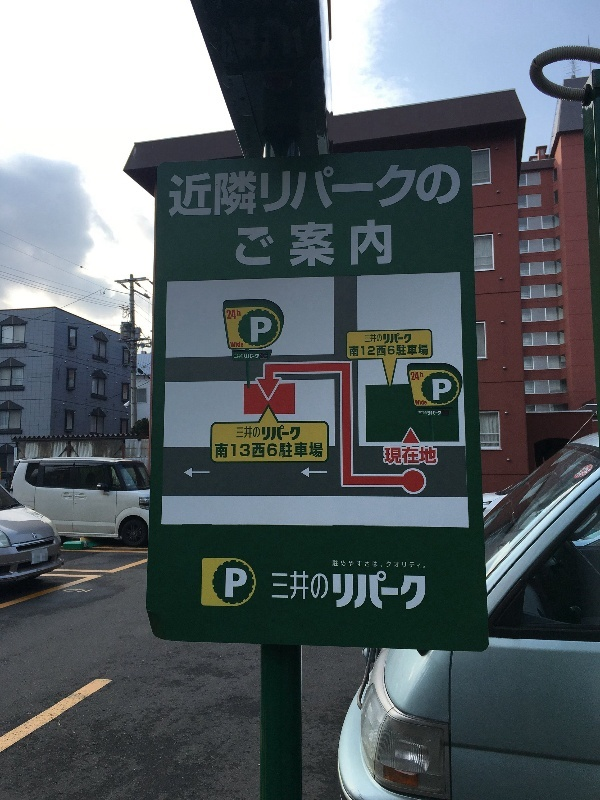text: (177, 162, 192, 220), (193, 162, 208, 220), (209, 162, 224, 220), (225, 162, 240, 220), (241, 162, 256, 220), (257, 162, 272, 220), (273, 162, 288, 220), (289, 162, 304, 220), (305, 162, 320, 220), (321, 162, 336, 220), (337, 162, 352, 220), (353, 162, 368, 220), (369, 162, 384, 220), (385, 162, 400, 220), (401, 162, 416, 220), (417, 162, 432, 220), (433, 162, 448, 220), (241, 219, 256, 270), (257, 219, 272, 270), (273, 219, 288, 270), (289, 219, 304, 270), (305, 219, 320, 270), (321, 219, 336, 270), (337, 219, 352, 270), (353, 219, 368, 270), (369, 219, 384, 270), (449, 162, 461, 220), (273, 568, 288, 613), (289, 568, 304, 613), (305, 568, 320, 613), (321, 568, 336, 613), (337, 568, 352, 613), (353, 568, 368, 613), (369, 568, 384, 613), (385, 568, 400, 613), (401, 568, 416, 613), (226, 567, 240, 598), (385, 219, 393, 270), (169, 162, 176, 220), (417, 568, 426, 613), (257, 317, 272, 343), (433, 378, 448, 401), (385, 447, 400, 465), (401, 447, 416, 465), (417, 447, 432, 465), (225, 442, 240, 459), (241, 442, 256, 459), (257, 442, 272, 459), (273, 442, 288, 459), (289, 442, 304, 459), (305, 442, 320, 459), (241, 425, 256, 441), (257, 425, 272, 441), (273, 425, 288, 441), (353, 344, 368, 358), (369, 344, 384, 358), (385, 344, 400, 358), (401, 344, 416, 358), (369, 332, 384, 345), (385, 332, 400, 345), (241, 567, 247, 598), (337, 559, 352, 571), (353, 559, 368, 571), (369, 559, 384, 571), (385, 559, 400, 571), (401, 559, 416, 571), (289, 425, 300, 441), (417, 344, 429, 358), (237, 219, 240, 270), (215, 442, 224, 459), (401, 332, 412, 345), (226, 310, 240, 320), (251, 317, 256, 343), (417, 559, 425, 571), (241, 353, 256, 359), (433, 447, 437, 465), (418, 411, 432, 416), (449, 378, 452, 401), (257, 353, 268, 359), (417, 372, 424, 381), (230, 342, 240, 348), (417, 400, 427, 406), (237, 425, 240, 441), (411, 372, 416, 381), (433, 411, 442, 416), (271, 568, 272, 613), (349, 344, 352, 358), (365, 332, 368, 345), (234, 353, 240, 359), (333, 559, 336, 571), (321, 442, 323, 459), (241, 342, 244, 348), (415, 400, 416, 406)
